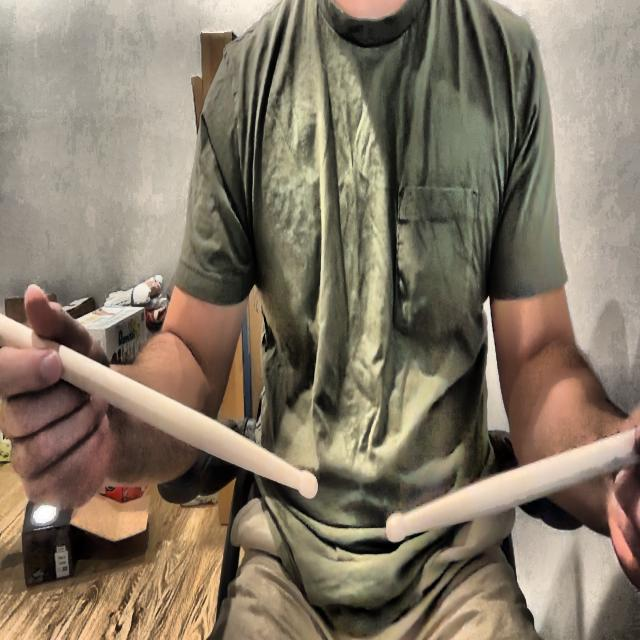Drumstick-Heads: (381, 506, 407, 552), (296, 463, 320, 505)
